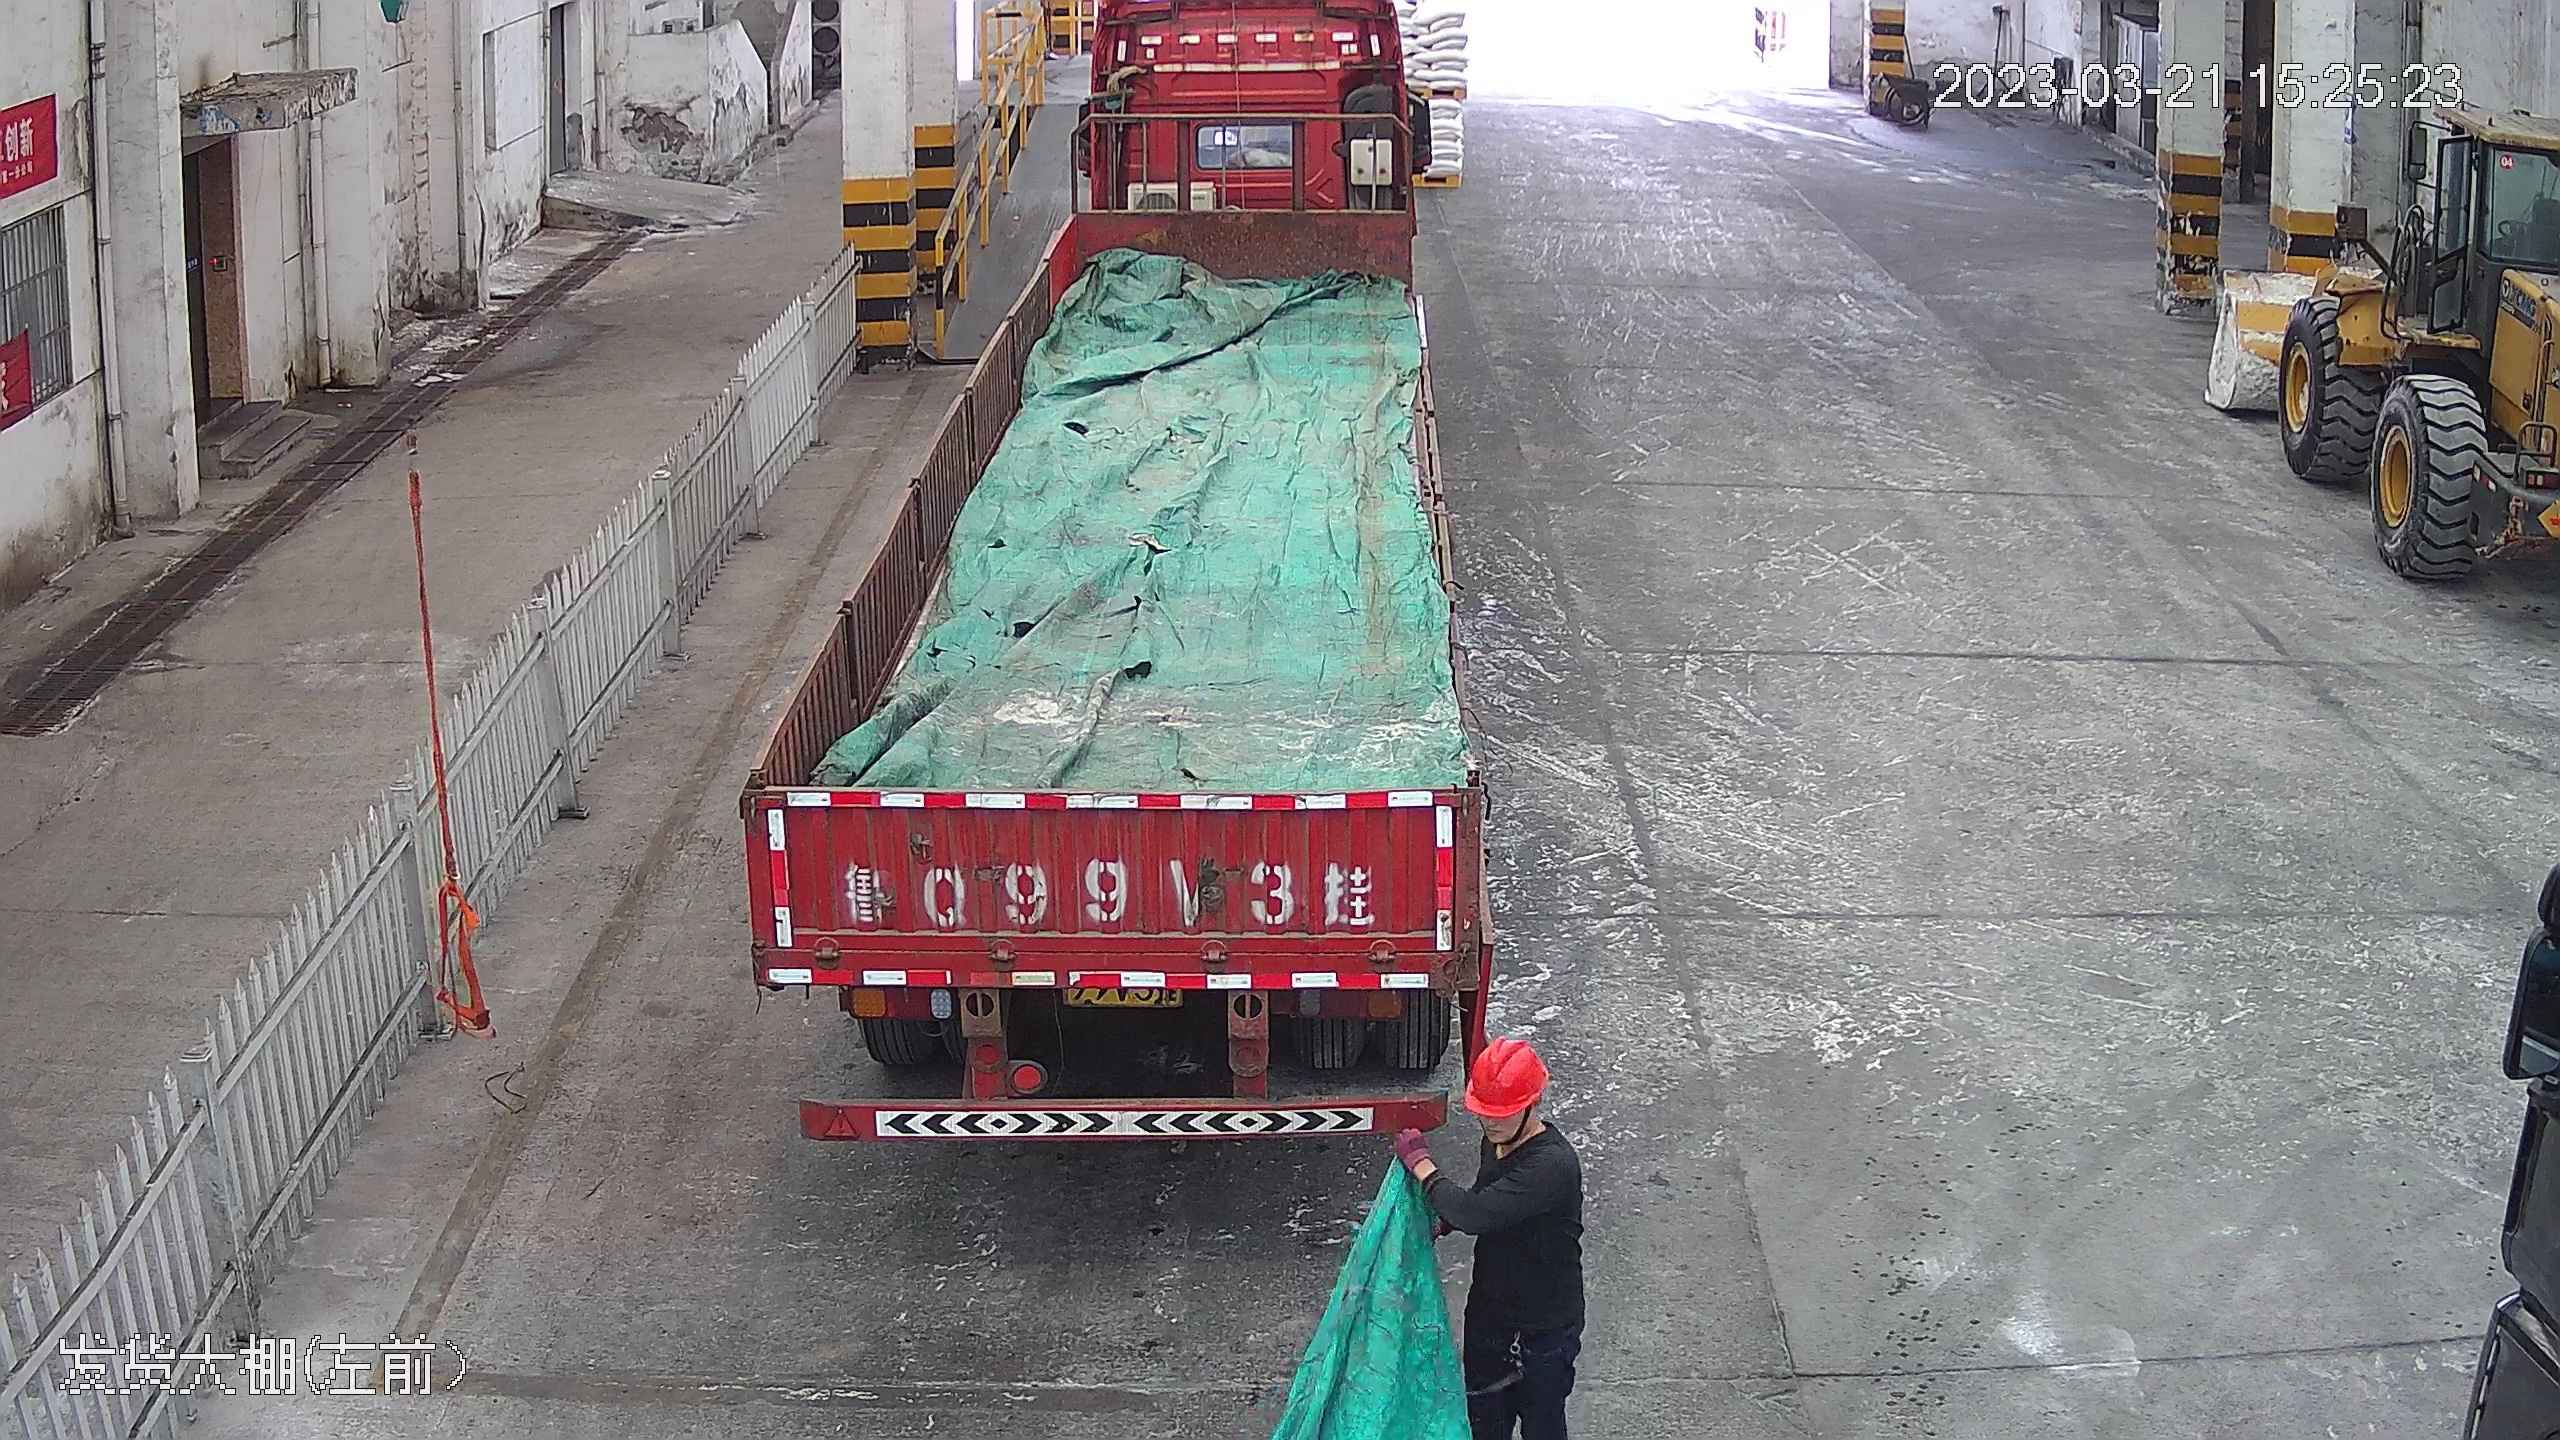head: (1444, 1035, 1584, 1217)
helmet: (1463, 1034, 1551, 1118)
people: (1412, 1039, 1589, 1437)
truck: (743, 1, 1482, 1150)
